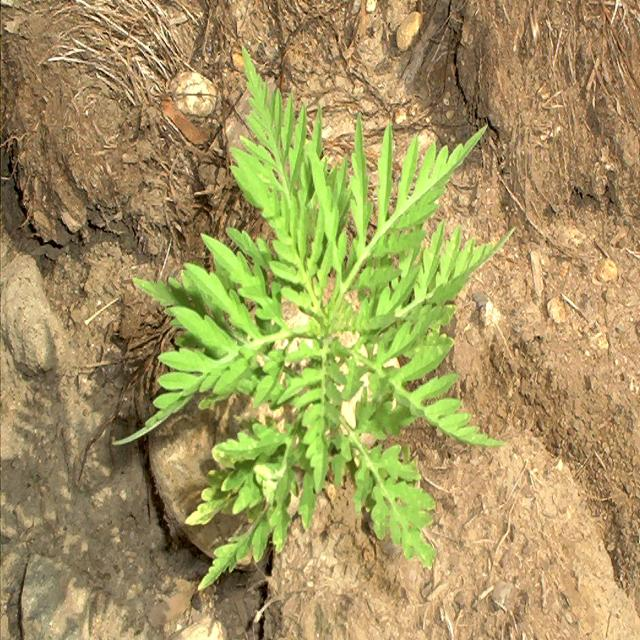ambrosia: (198, 108, 474, 545)
